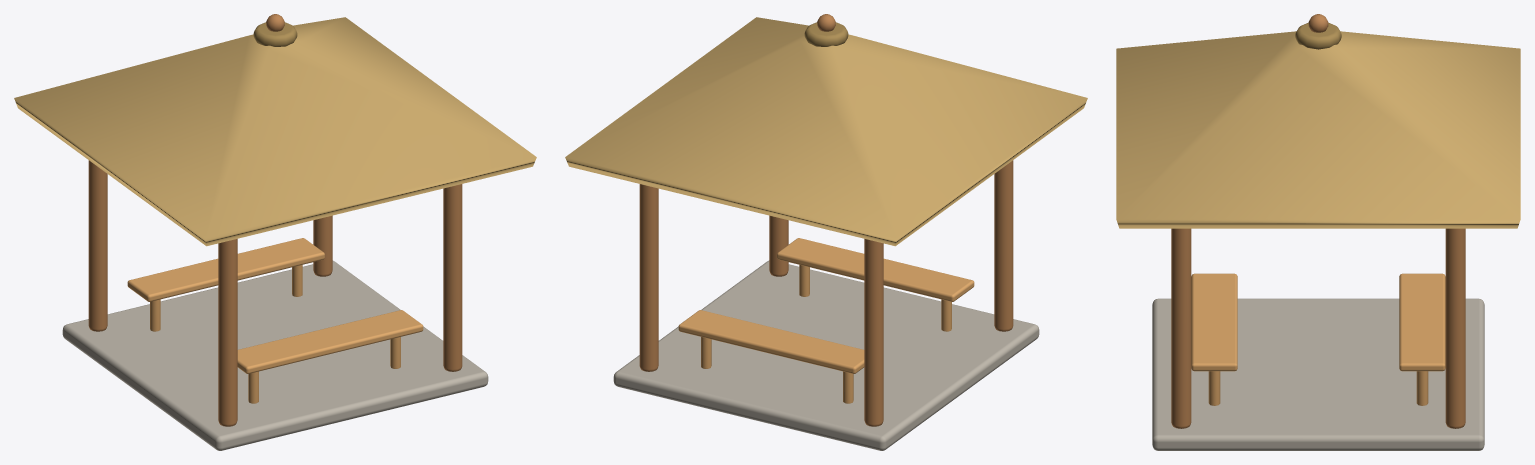
The model's file is garden_pavilion.glb.
The picture shows the model from 3 angles, left to right: view 1: azimuth 30°, elevation 25°; view 2: azimuth 150°, elevation 25°; view 3: azimuth 270°, elevation 25°; orthographic projection. The views are drawn at different scales.
Visible parts, largest first — view 1: garden_pavilion_mesh; view 2: garden_pavilion_mesh; view 3: garden_pavilion_mesh.
Part boxes in pixels (x1=…): garden_pavilion_mesh: x1=14, y1=14, x2=536, y2=450; garden_pavilion_mesh: x1=565, y1=14, x2=1087, y2=450; garden_pavilion_mesh: x1=1116, y1=14, x2=1520, y2=450.
Size of the model in its own units: 2.8 by 2.81 by 2.8.
